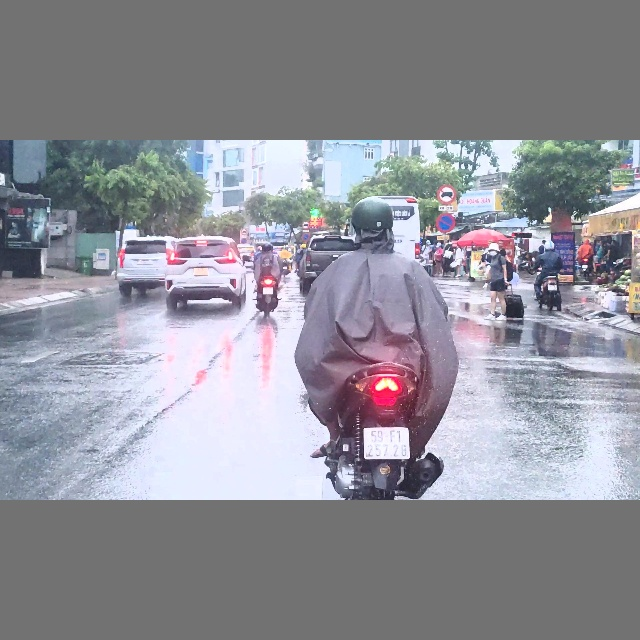P.106a*Xe tai: (436, 184, 458, 205), (301, 220, 310, 229)
P.131a: (435, 211, 456, 232), (301, 233, 310, 241)
